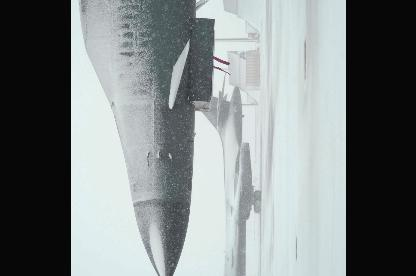AV8B: (71, 0, 312, 275), (200, 69, 260, 275)
